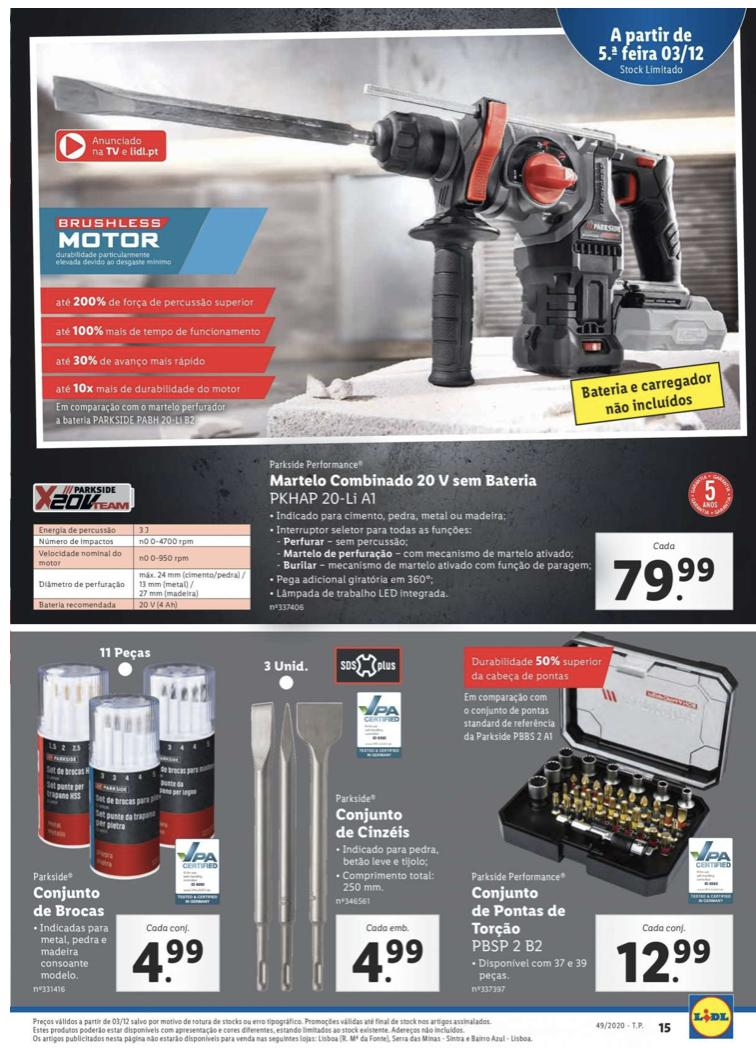name: (262, 468, 544, 495), (467, 882, 571, 938), (31, 882, 113, 925), (333, 804, 414, 846)
price: (607, 550, 718, 610), (616, 934, 711, 988), (348, 936, 429, 989), (127, 936, 207, 989)
product: (29, 28, 748, 613), (459, 628, 755, 997), (235, 632, 459, 997), (23, 632, 233, 1006)
